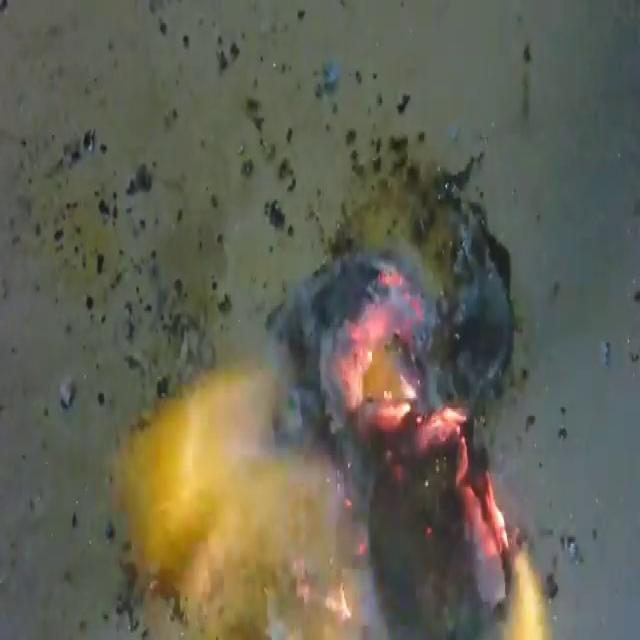Fire: (112, 247, 548, 637)
